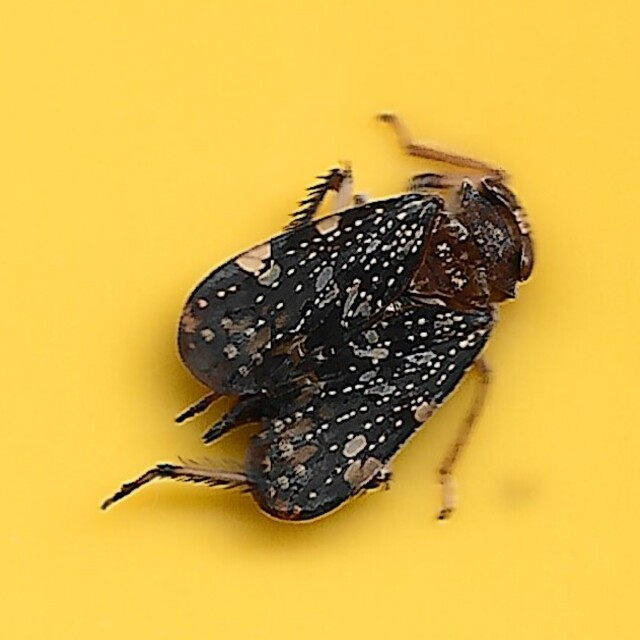Hemiptera: (101, 113, 539, 527)
